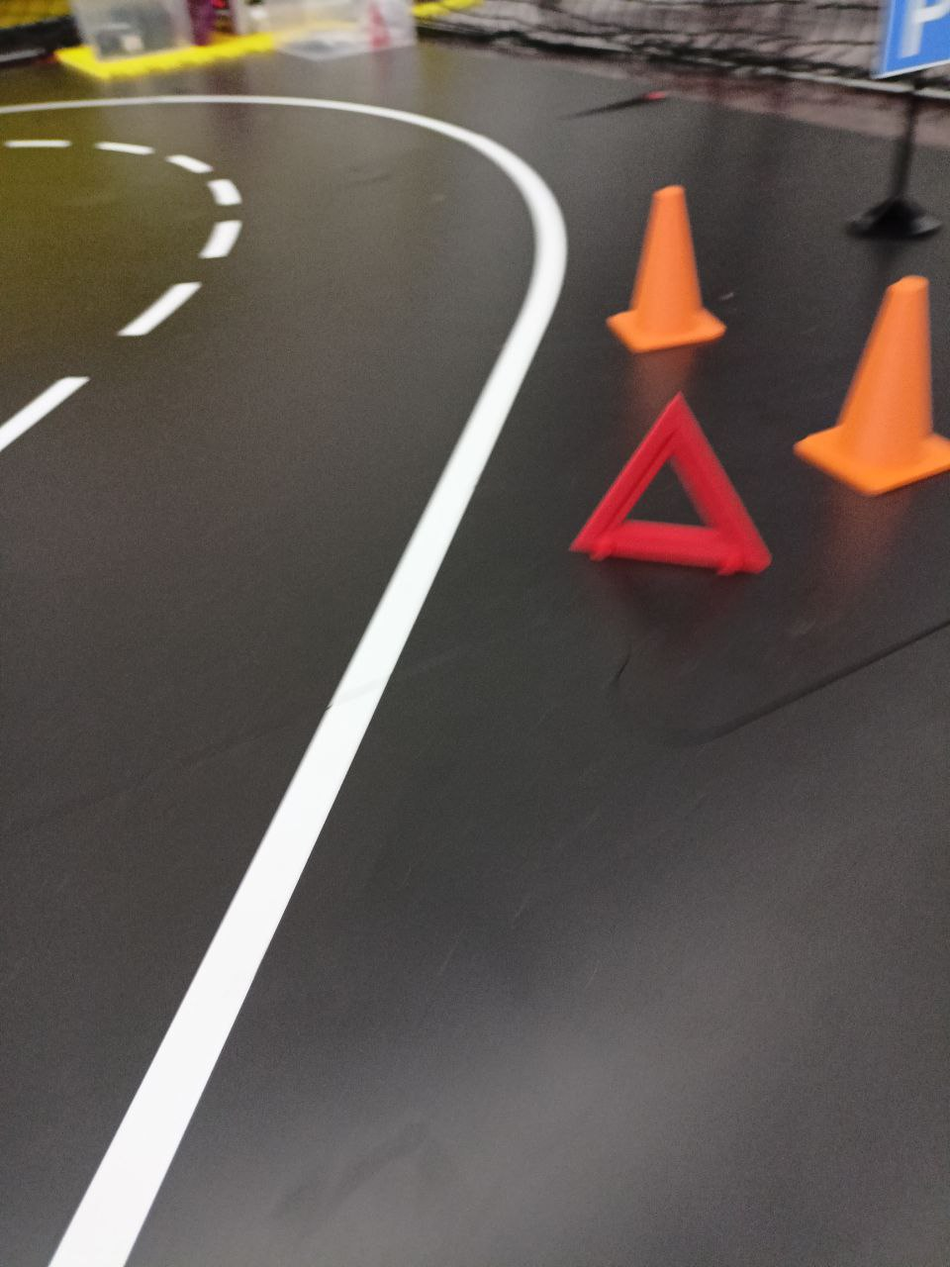Parking: (568, 382, 789, 606), (798, 266, 946, 525), (606, 151, 737, 373)
